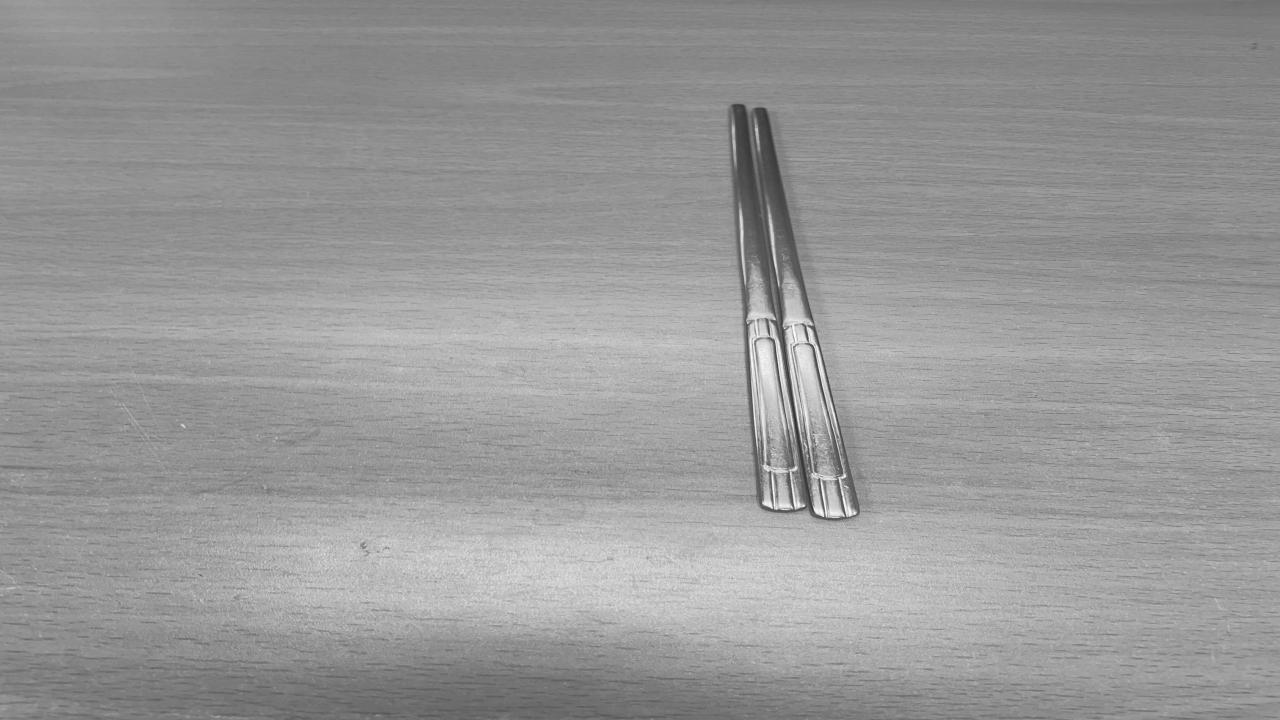chopstick: (730, 104, 855, 515)
